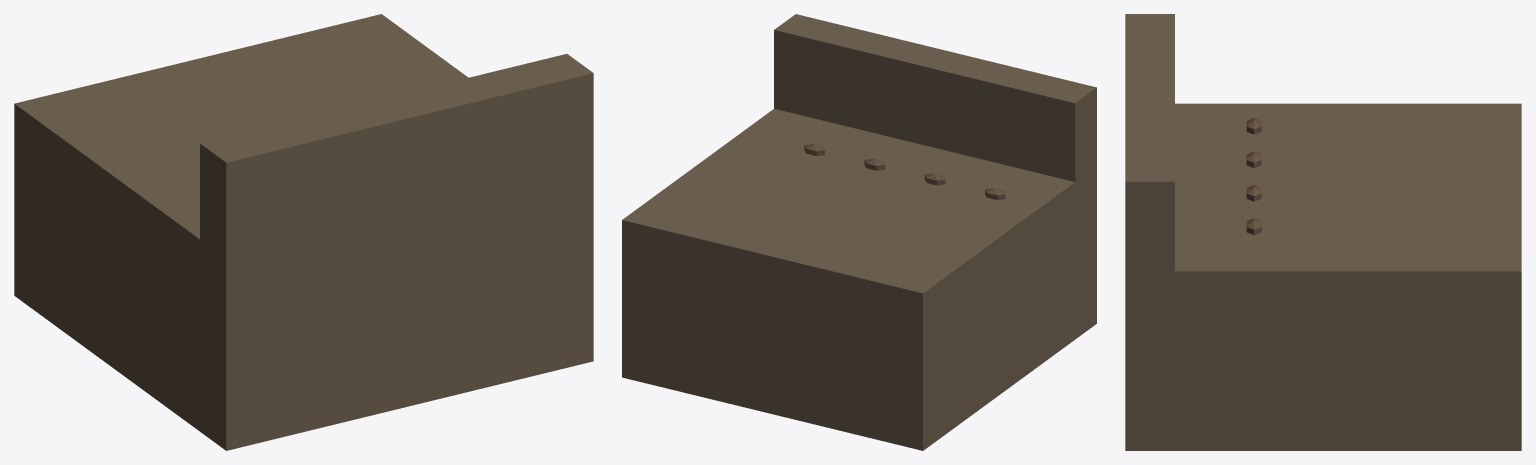
File: terrain-soil-edge.lod0.glb
3 renders of one model, left to right at view 1: azimuth 30°, elevation 25°; view 2: azimuth 150°, elevation 25°; view 3: azimuth 270°, elevation 25°, orthographic. The views are drawn at different scales.
Visible parts, largest first — view 1: terrain-soil-edge__body; view 2: terrain-soil-edge__body; view 3: terrain-soil-edge__body.
Boxes of the visible parts, x1,y1,x2,y2 form: terrain-soil-edge__body: [14, 14, 593, 450]; terrain-soil-edge__body: [622, 14, 1096, 450]; terrain-soil-edge__body: [1125, 14, 1521, 450].
Size of the model in its own units: 2 by 1.5 by 2.
